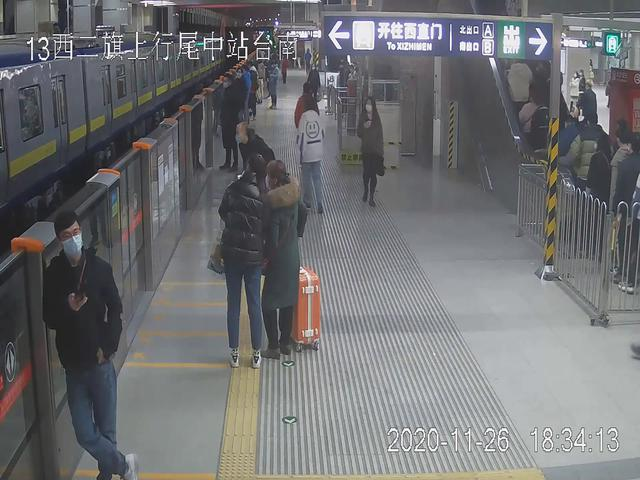person: (44, 209, 149, 480), (212, 152, 269, 370), (262, 163, 323, 361), (293, 99, 333, 213), (358, 90, 391, 208), (218, 72, 246, 172)
